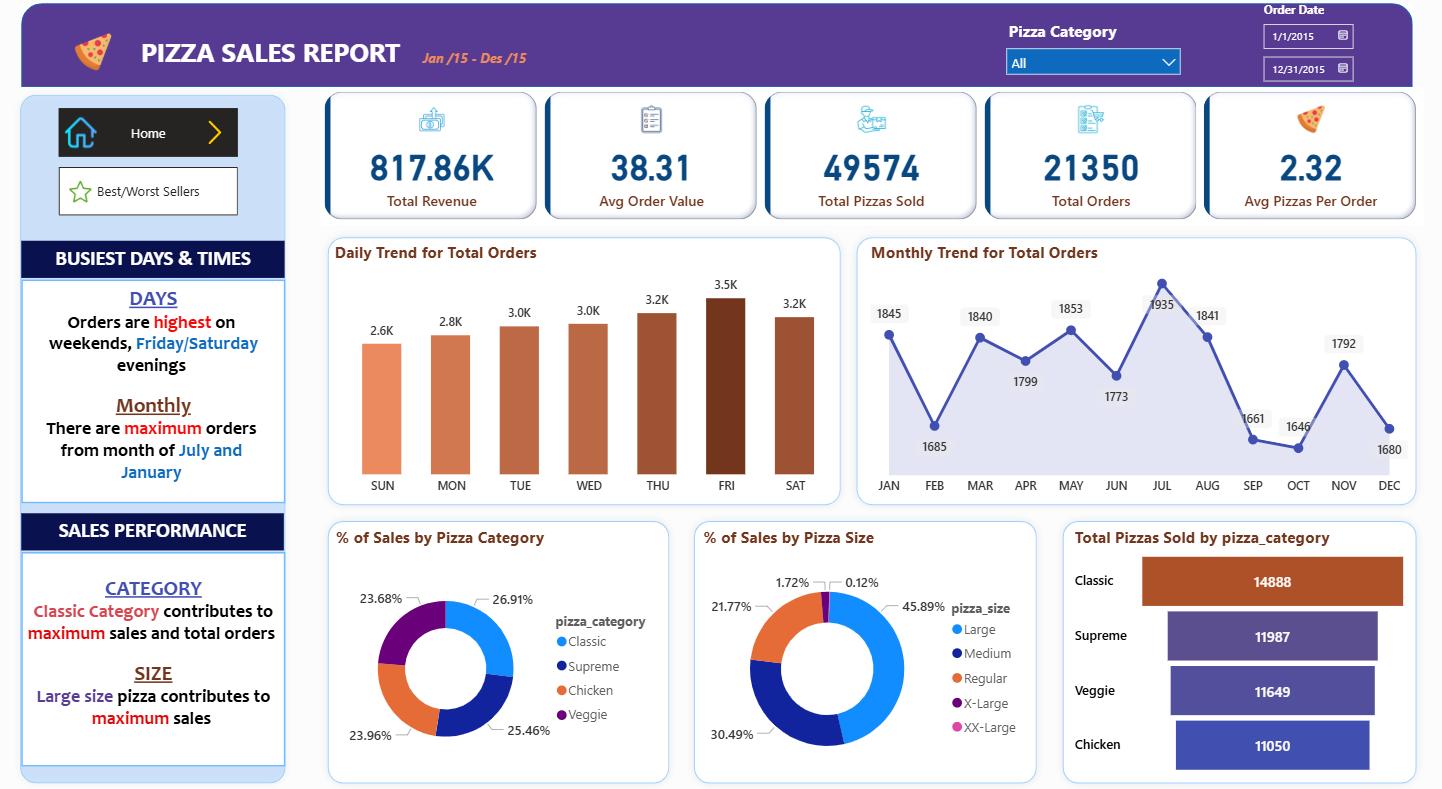

This screenshot's page, from the dashboard's own definition file:
{"tool":"powerbi","page":{"name":"Home","canvas":[1500,820],"ordinal":0},"visuals":[{"type":"cardVisual","fields":{"Data":["pizza_sales.Total Revenue","pizza_sales.Avg Order Value","pizza_sales.Total Pizzas Sold","pizza_sales.Total Orders","pizza_sales.Avg Pizzas Per Order"]},"box":[335.7,92.9,1140,142.9],"z":0},{"type":"shape","box":[27.5,6.2,1452.5,86.2],"z":1000},{"type":"textbox","box":[601.6,13.9,298,48.7],"z":2000},{"type":"textbox","box":[688.6,57.1,122.9,32.9],"z":3000},{"type":"image","box":[543.1,22.3,85,40.4],"z":4000},{"type":"shape","box":[335.7,240,545.7,292.9],"z":5000},{"type":"columnChart","title":"Daily Trend for Total Orders","fields":{"Category":["pizza_sales.Order Day"],"Y":["pizza_sales.Total Orders"]},"box":[345.7,251.4,535.7,271.4],"z":6000},{"type":"shape","box":[881.4,240,594.3,292.9],"z":7000},{"type":"areaChart","title":"Monthly Trend for Total Orders","fields":{"Category":["pizza_sales.Order Month"],"Y":["pizza_sales.Total Orders"]},"box":[900,251.4,564.3,271.4],"z":8000},{"type":"shape","box":[335.7,532.9,368.6,287.1],"z":9000},{"type":"shape","box":[714.3,532.9,370,287.1],"z":10000},{"type":"shape","box":[1094.3,532.9,381.4,287.1],"z":11000},{"type":"donutChart","title":"% of Sales by Pizza Category","fields":{"Category":["pizza_sales.pizza_category"],"Y":["pizza_sales.Total Revenue"]},"box":[347.1,545.7,345.7,274.3],"z":12000},{"type":"donutChart","title":"% of Sales by Pizza Size","fields":{"Y":["pizza_sales.Total Revenue"],"Category":["pizza_sales.pizza_size"]},"box":[727.1,545.7,345.7,274.3],"z":13000},{"type":"funnel","fields":{"Category":["pizza_sales.pizza_category"],"Y":["pizza_sales.Total Pizzas Sold"]},"box":[1110,545.7,354.3,262.9],"z":14000},{"type":"shape","box":[18.6,92.9,290,727.1],"z":15000},{"type":"textbox","box":[27.1,251.4,272,38.6],"z":16000},{"type":"textbox","box":[27.1,291.4,272.9,231.4],"z":17000},{"type":"textbox","box":[27.1,532.9,271.4,38.6],"z":18000},{"type":"textbox","box":[27.1,572.9,272.9,221.4],"z":19000},{"type":"slicer","fields":{"Values":["pizza_sales.pizza_category"]},"box":[992.9,14.3,201.4,60],"z":20000},{"type":"slicer","fields":{"Values":["pizza_sales.order_date"]},"box":[1228.6,5.7,221.4,91.4],"z":21000},{"type":"pageNavigator","box":[65.7,114.3,185.7,50],"z":21001},{"type":"pageNavigator","box":[65.7,175.7,185.7,50],"z":21002},{"type":"image","box":[202.9,122.9,48.6,34.3],"z":21003},{"type":"image","box":[65.7,118.6,45.7,42.9],"z":21004},{"type":"image","box":[64.3,184.3,47.1,32.9],"z":21005}]}

Visuals, with their boxes in screenshot pixels (x1, y1, x2, y2), scaled from the page's 1500x820 canvas onto the 1442x789 screenshot:
cardVisual - pizza_sales.Total Revenue x pizza_sales.Avg Order Value: pyautogui.locateOnScreen(323, 89, 1419, 227)
shape: pyautogui.locateOnScreen(26, 6, 1423, 89)
textbox: pyautogui.locateOnScreen(578, 13, 865, 60)
textbox: pyautogui.locateOnScreen(662, 55, 780, 87)
image: pyautogui.locateOnScreen(522, 21, 604, 60)
shape: pyautogui.locateOnScreen(323, 231, 847, 513)
"Daily Trend for Total Orders" columnChart: pyautogui.locateOnScreen(332, 242, 847, 503)
shape: pyautogui.locateOnScreen(847, 231, 1419, 513)
"Monthly Trend for Total Orders" areaChart: pyautogui.locateOnScreen(865, 242, 1408, 503)
shape: pyautogui.locateOnScreen(323, 513, 677, 788)
shape: pyautogui.locateOnScreen(687, 513, 1042, 788)
shape: pyautogui.locateOnScreen(1052, 513, 1419, 788)
"% of Sales by Pizza Category" donutChart: pyautogui.locateOnScreen(334, 525, 666, 788)
"% of Sales by Pizza Size" donutChart: pyautogui.locateOnScreen(699, 525, 1031, 788)
funnel - pizza_sales.pizza_category x pizza_sales.Total Pizzas Sold: pyautogui.locateOnScreen(1067, 525, 1408, 778)
shape: pyautogui.locateOnScreen(18, 89, 297, 788)
textbox: pyautogui.locateOnScreen(26, 242, 288, 279)
textbox: pyautogui.locateOnScreen(26, 280, 288, 503)
textbox: pyautogui.locateOnScreen(26, 513, 287, 550)
textbox: pyautogui.locateOnScreen(26, 551, 288, 764)
slicer - pizza_sales.pizza_category: pyautogui.locateOnScreen(955, 14, 1148, 71)
slicer - pizza_sales.order_date: pyautogui.locateOnScreen(1181, 5, 1394, 93)
pageNavigator: pyautogui.locateOnScreen(63, 110, 242, 158)
pageNavigator: pyautogui.locateOnScreen(63, 169, 242, 217)
image: pyautogui.locateOnScreen(195, 118, 242, 151)
image: pyautogui.locateOnScreen(63, 114, 107, 155)
image: pyautogui.locateOnScreen(62, 177, 107, 209)
